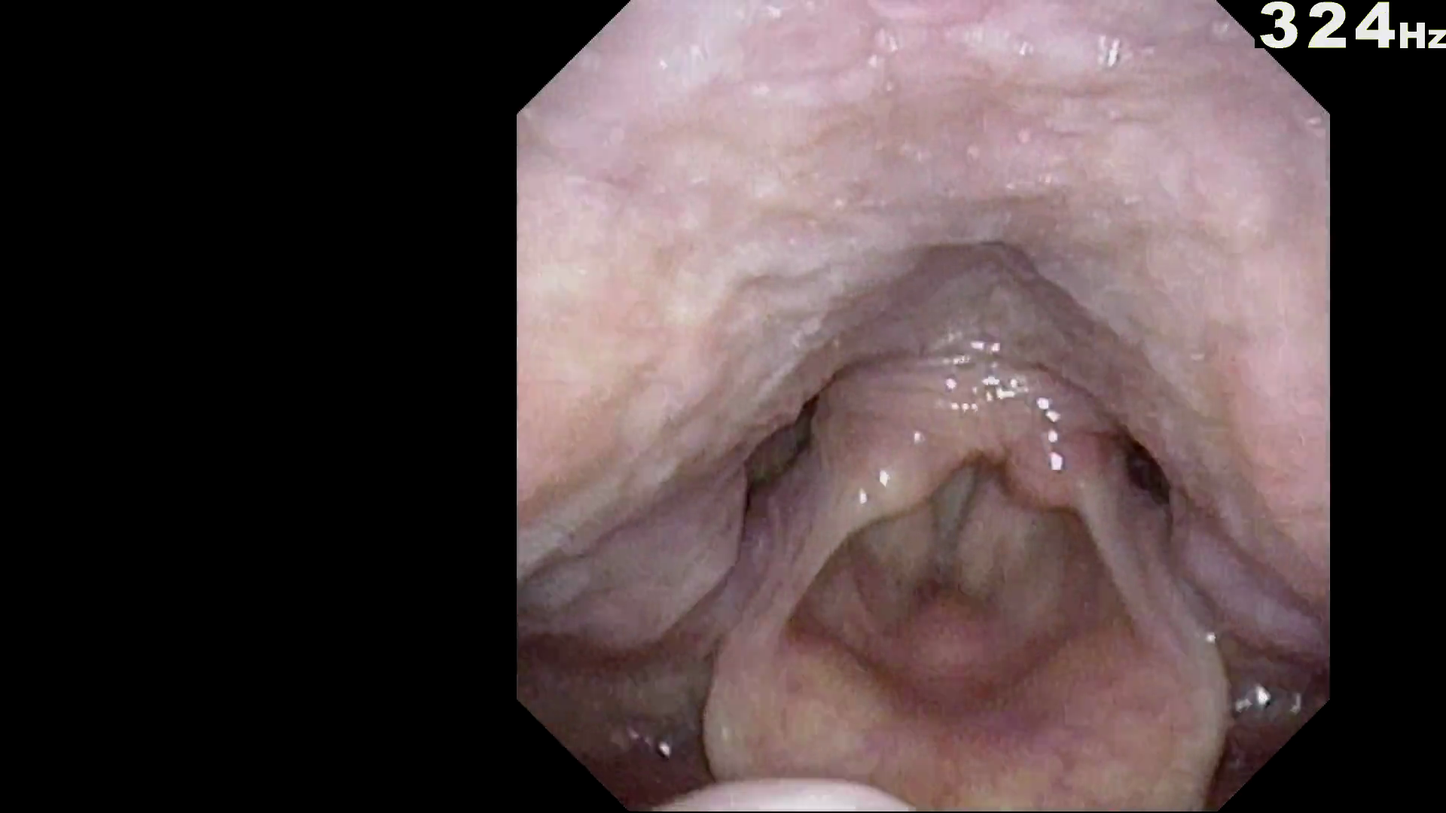epiglottis: (714, 629, 1215, 796)
trachea: (919, 489, 1034, 614)
